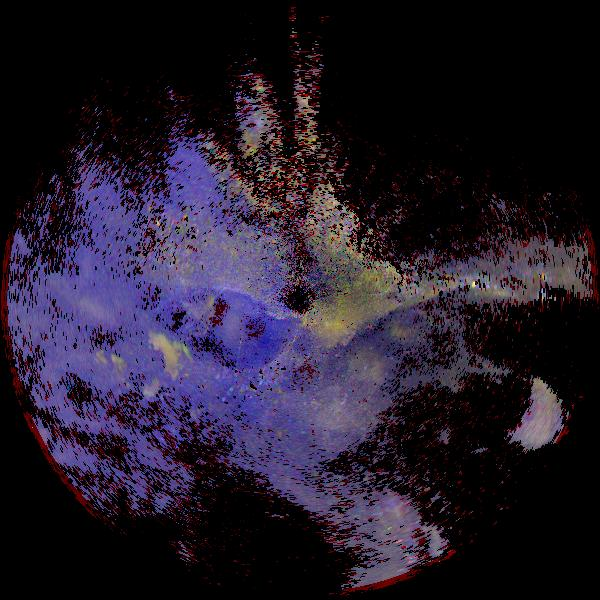roost: (106, 313, 205, 412)
